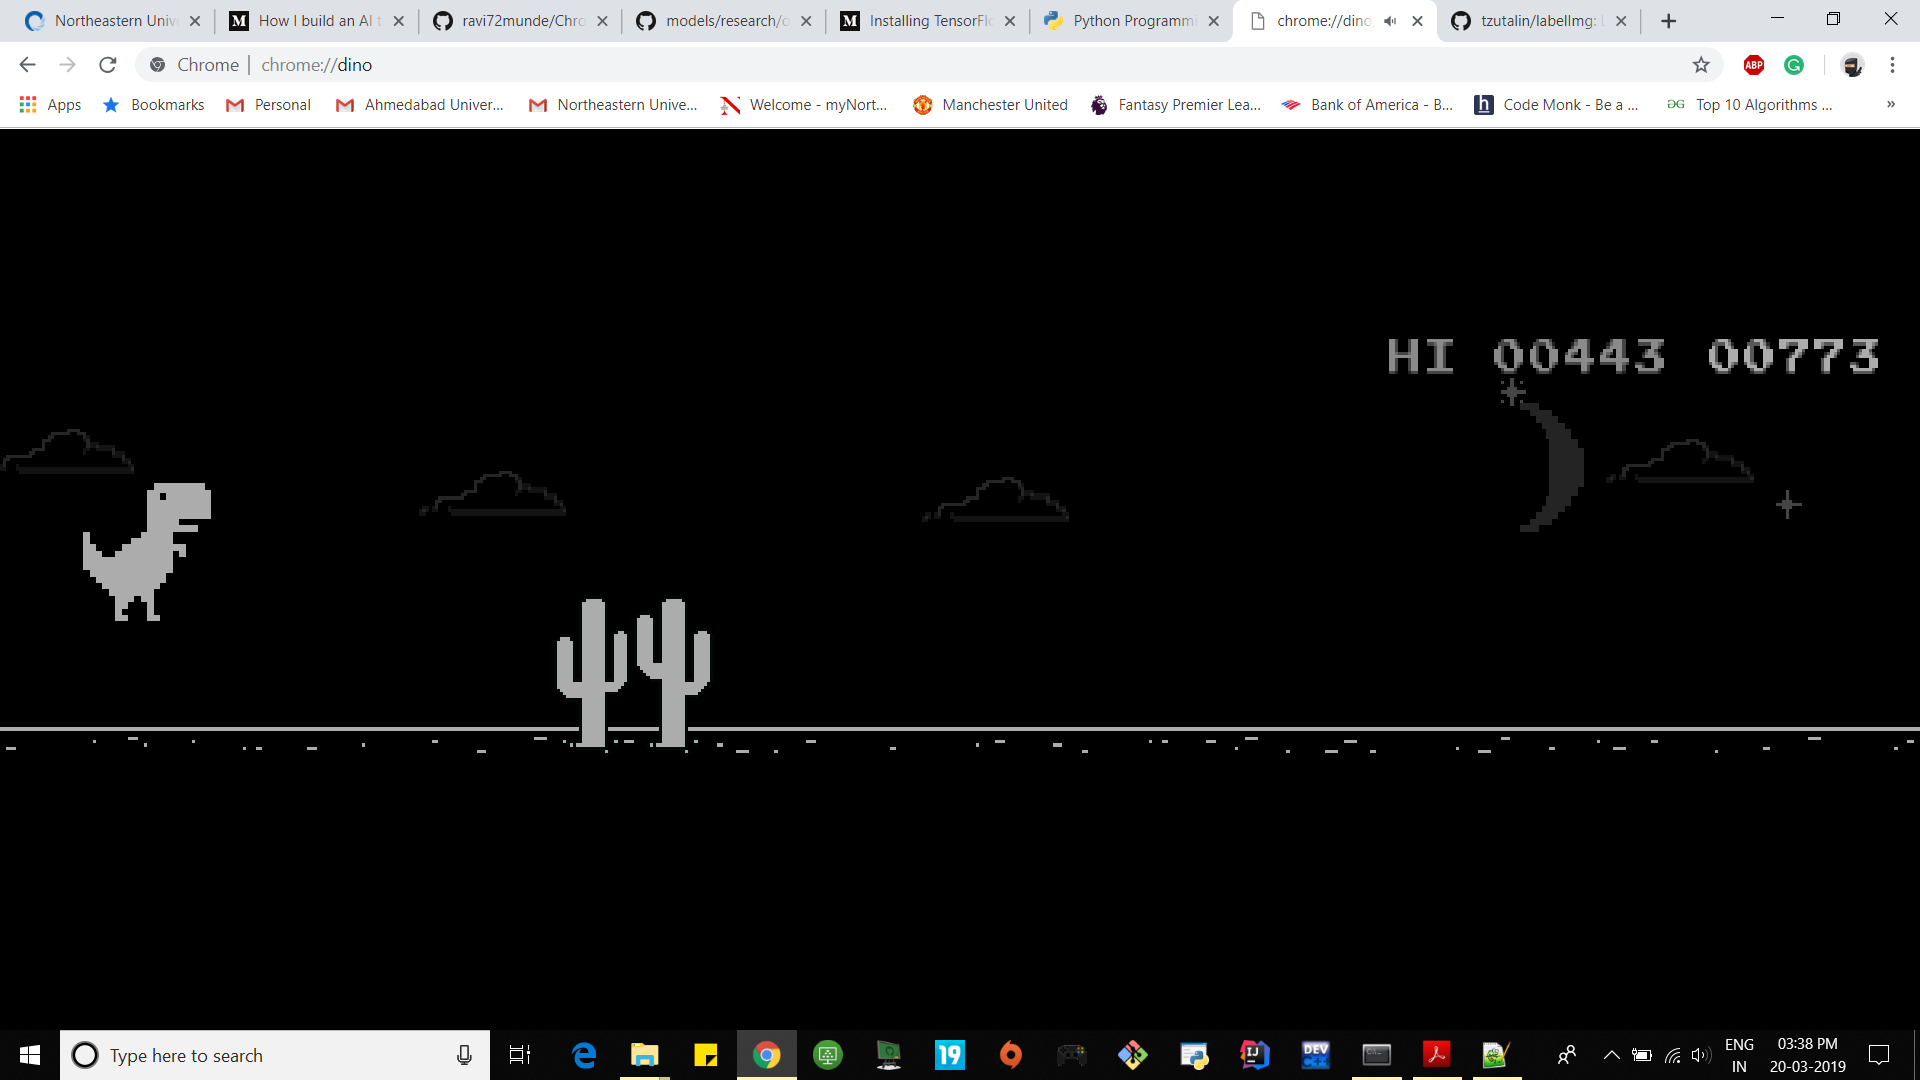cactus-2: (549, 596, 712, 746)
dino: (78, 481, 212, 629)
